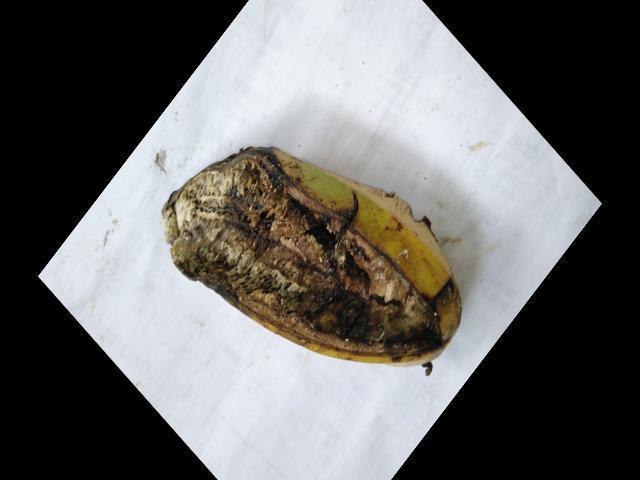rotten: (153, 136, 478, 400)
